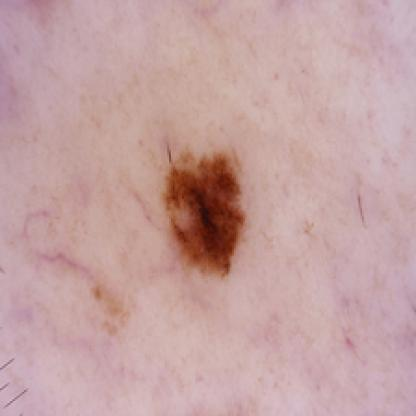benign: (162, 136, 252, 284)
